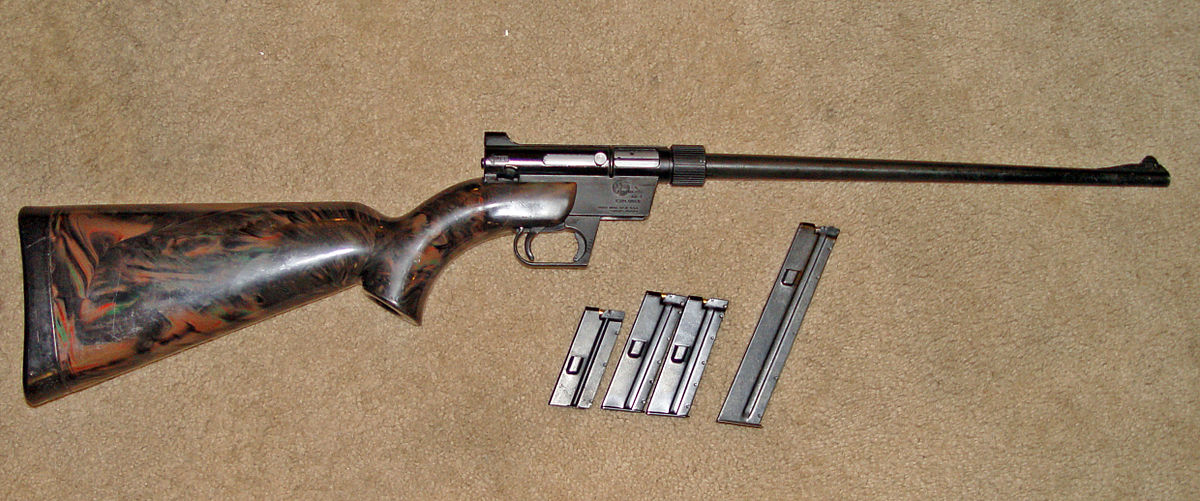Gun: (366, 114, 1148, 298)
